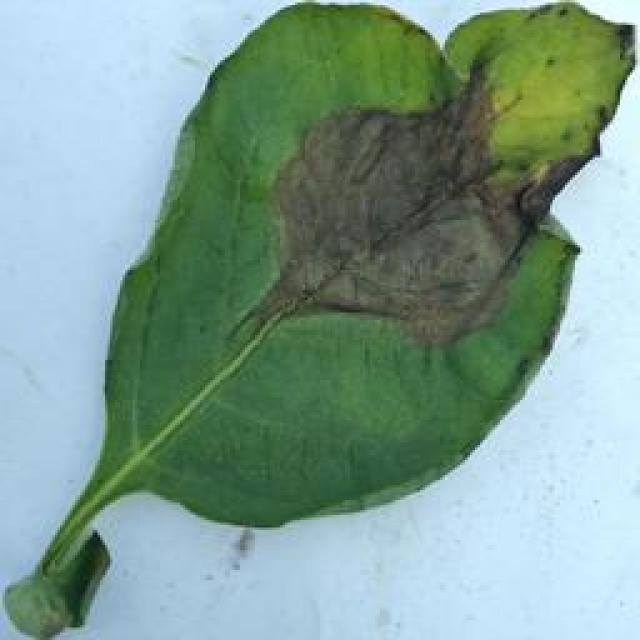Potato_Late_Blight: (7, 5, 628, 636)
